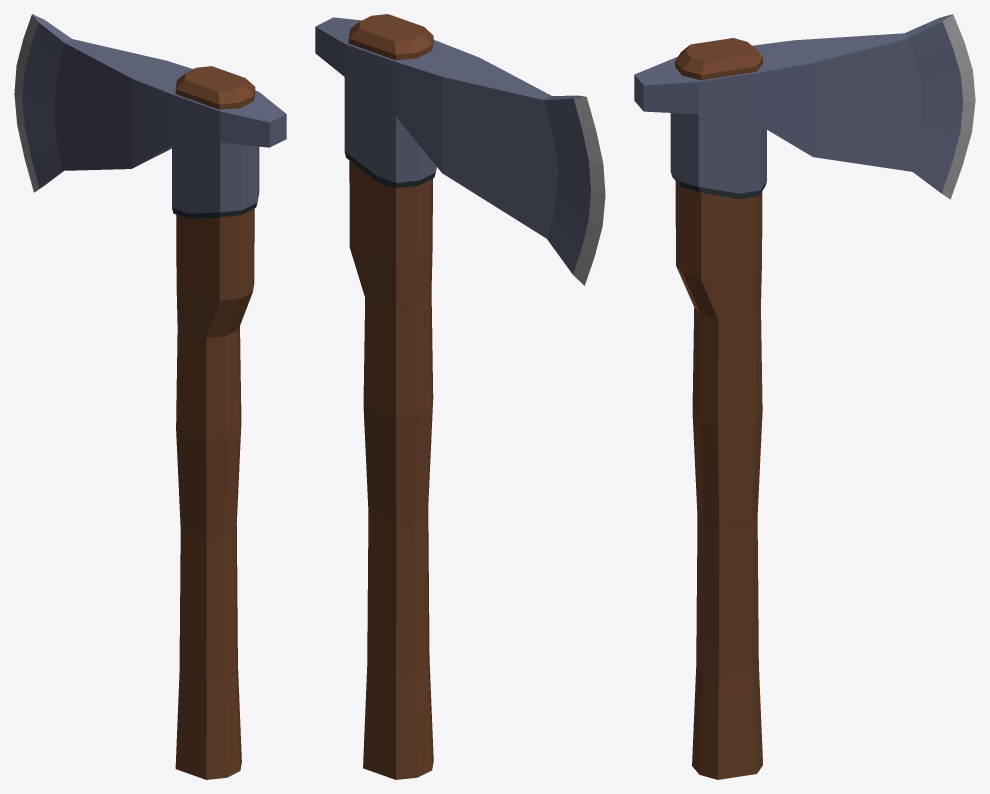
File: axe_iron.glb
3 renders of one model, left to right at view 1: azimuth 30°, elevation 25°; view 2: azimuth 210°, elevation 25°; view 3: azimuth 270°, elevation 25°, orthographic. The views are drawn at different scales.
Parts seen in each view (by area): view 1: AxeV12; view 2: AxeV12; view 3: AxeV12.
Part boxes in pixels (x1,y1,x2,y2): AxeV12: [14, 14, 286, 779]; AxeV12: [315, 14, 605, 779]; AxeV12: [634, 14, 975, 779].
Bounding box in the file's own units: 0.1067 × 0.6234 × 0.2689.
3 materials, 3 textured.
